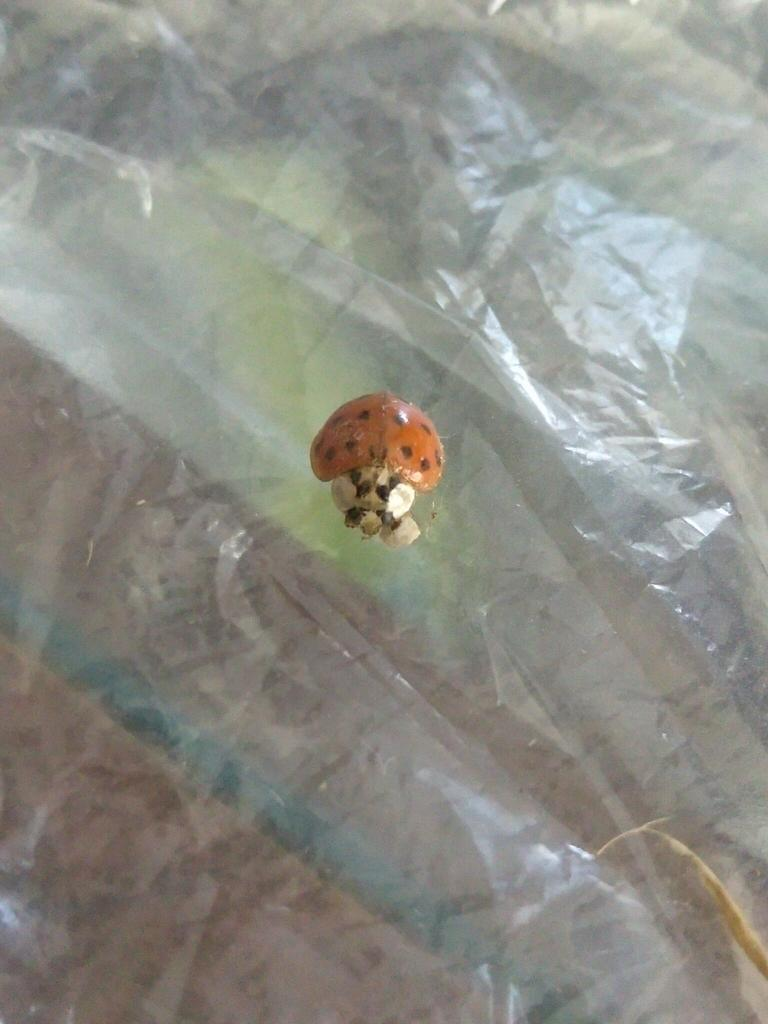ladybug: (312, 391, 449, 549)
